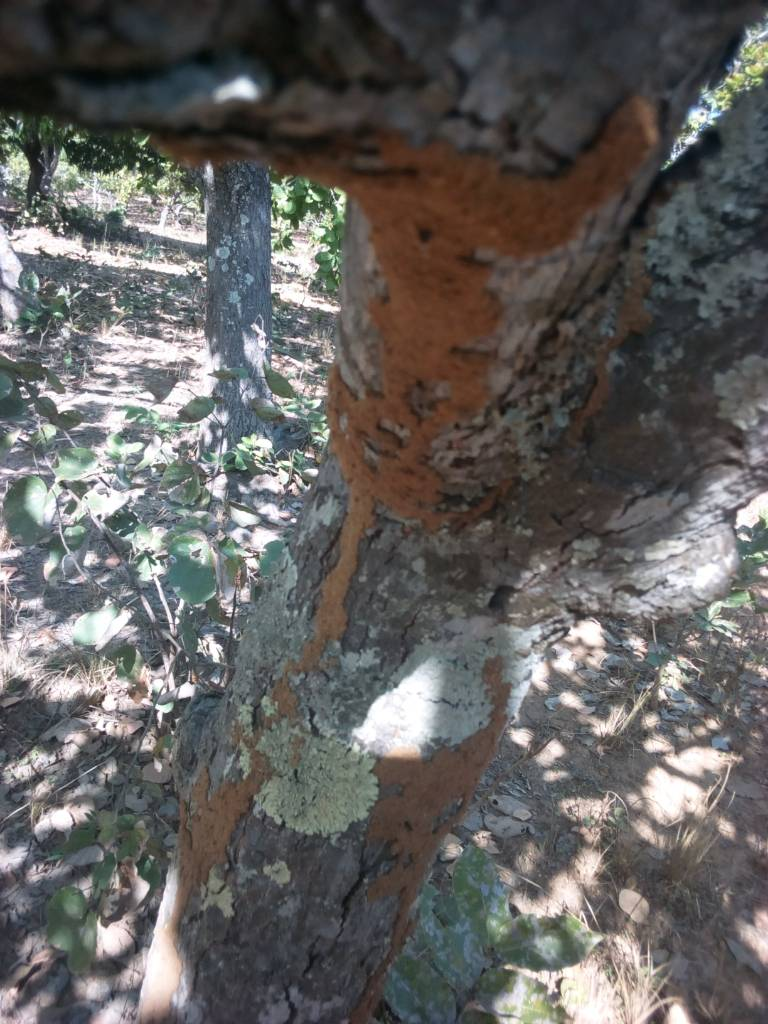Termites: (354, 144, 511, 522), (154, 789, 233, 988), (379, 725, 486, 853)
